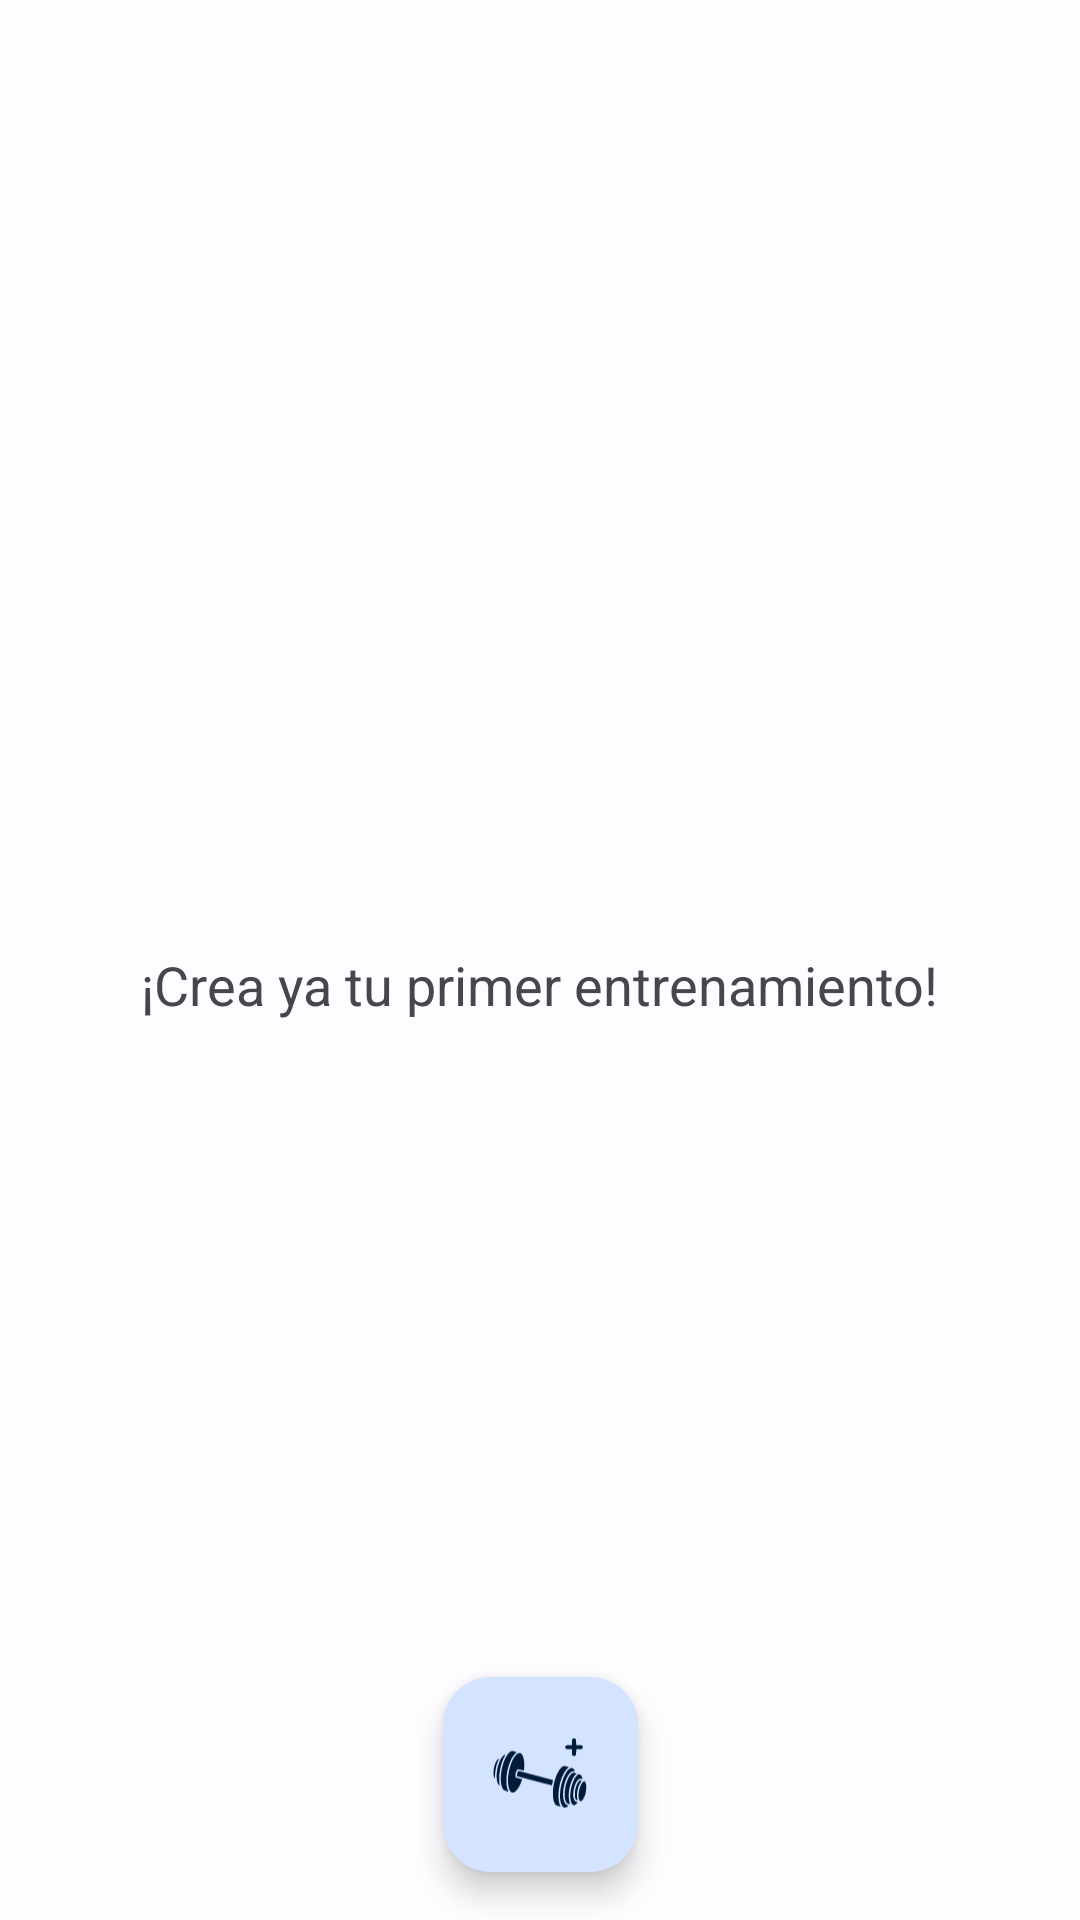

Icons on this 1080 × 1920 Android screen, each with its box as {"x1": x1, "y1": y1, "x2": x2, "y2": y2}:
add training: {"x1": 443, "y1": 1677, "x2": 638, "y2": 1872}
